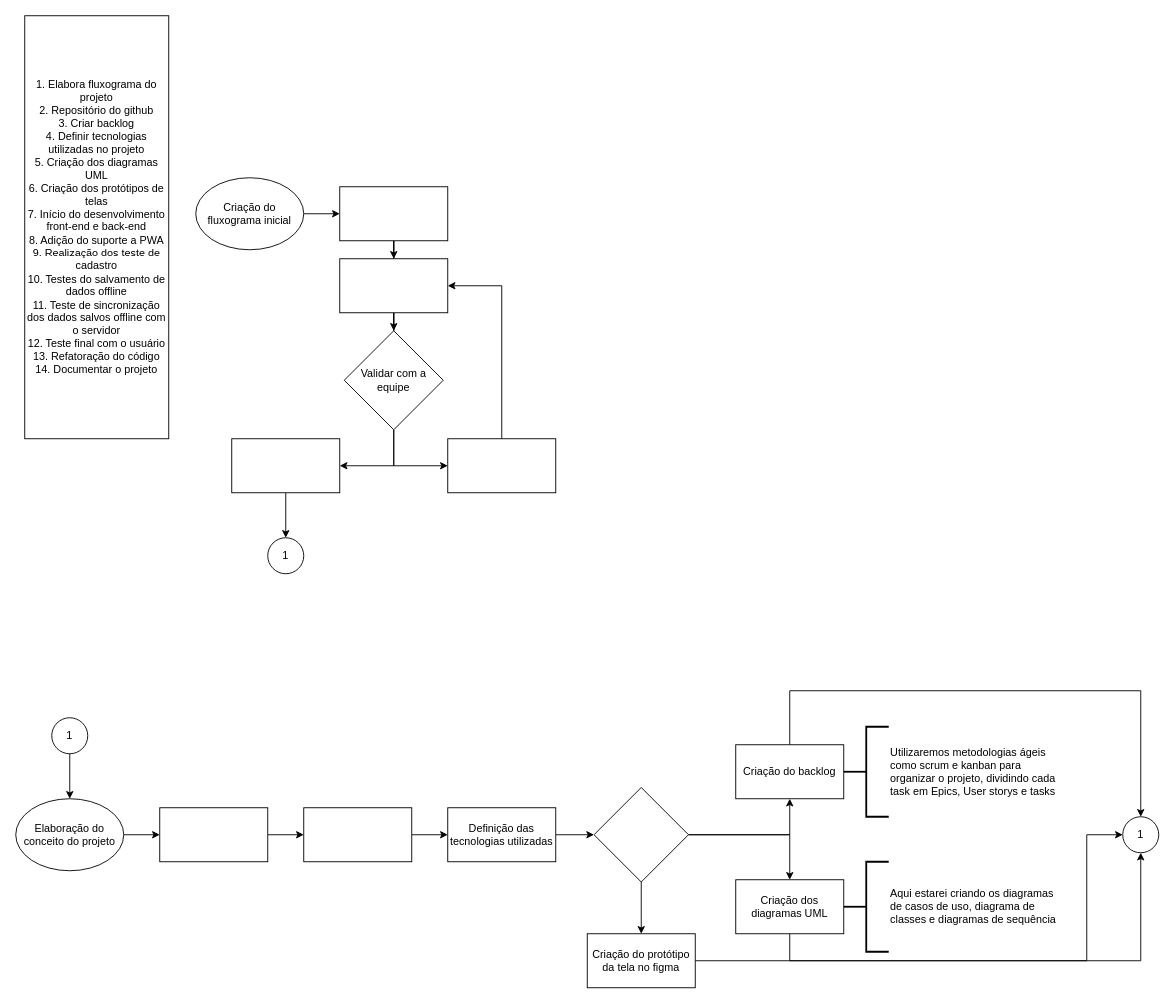
The diagram is 1175 pixels wide and 1004 high, and some of its shapes have lost their labels. Each missing label, with the centre of its shape:
Adicionar fluxograma no github: the point at 393,285
Alterar diagrama: the point at 501,465
Atribuir tarefas: the point at 640,834
Criação do projeto no github projects: the point at 357,834
Criação do repositório no github: the point at 213,834
Elaboração do fluxograma: the point at 393,213
Prosseguir com a criação dos diagramas UML: the point at 285,465
